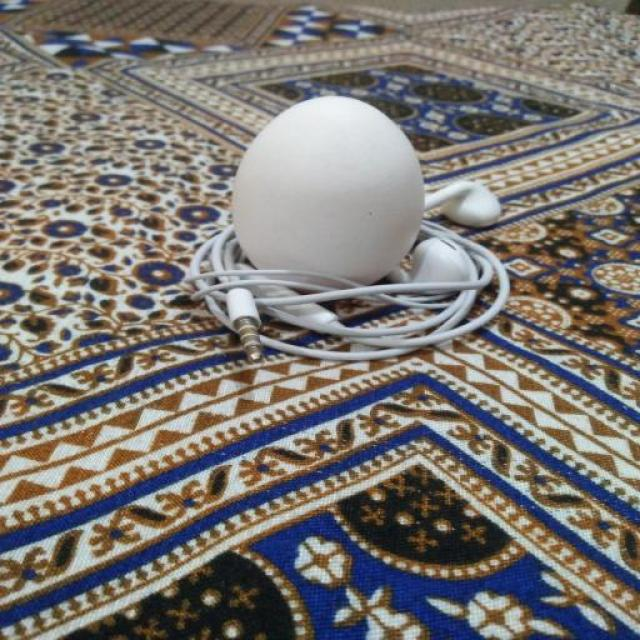telur: (234, 96, 427, 288)
